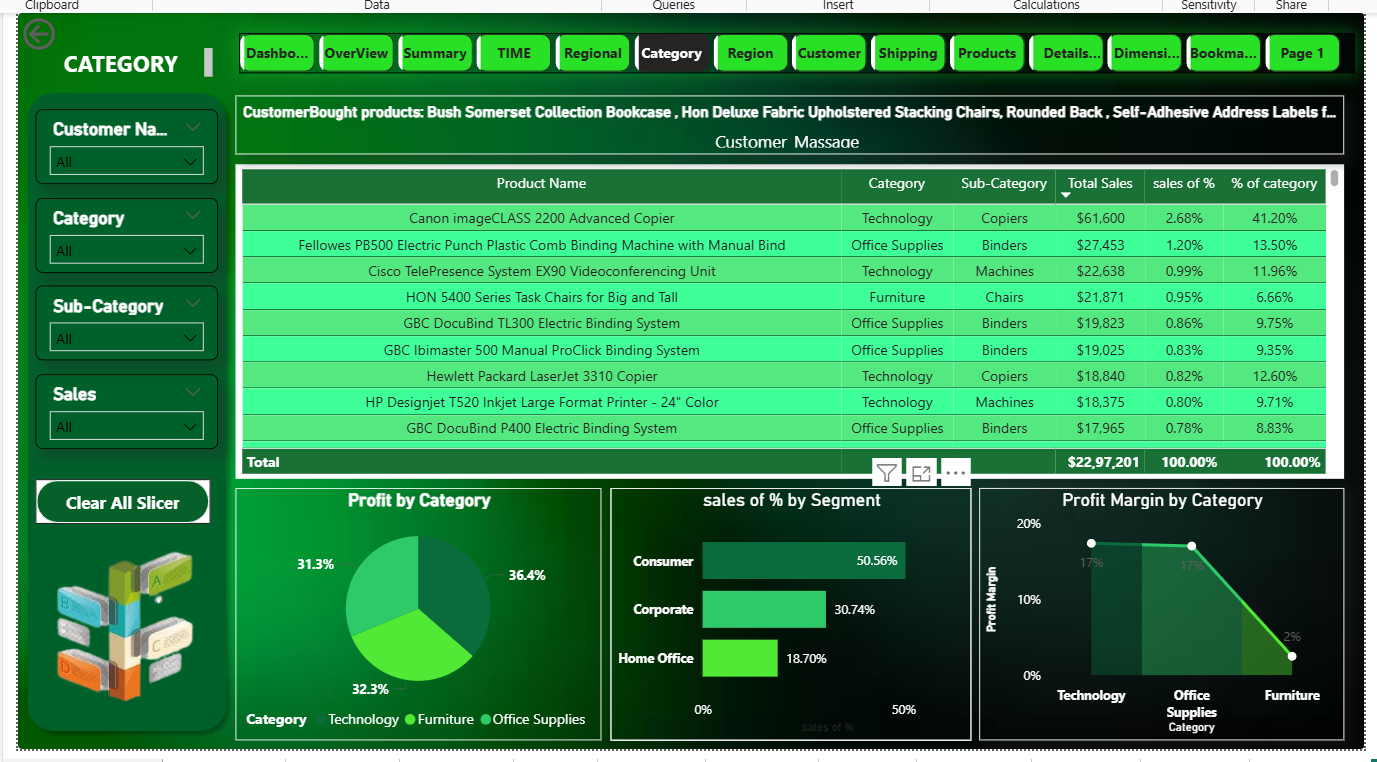

The page's visual inventory and layout, read from the dashboard file:
{"tool":"powerbi","page":{"name":"Category","canvas":[1280,700],"ordinal":5},"visuals":[{"type":"image","box":[0,0,1280.4,700.2],"z":0},{"type":"shape","box":[0,66.6,206.9,625.3],"z":1000},{"type":"textbox","box":[26.2,83.2,108.2,44],"z":2000},{"type":"textbox","box":[13.1,28.5,177.1,38],"z":3000},{"type":"slicer","fields":{"Values":["Superstore.Customer Name"]},"box":[16.6,91.5,173.6,71.3],"z":4000},{"type":"slicer","fields":{"Values":["Superstore.Sub-Category"]},"box":[16.6,259.6,173.6,71.3],"z":5000},{"type":"slicer","fields":{"Values":["Superstore.Category"]},"box":[16.6,175.6,173.6,71.3],"z":6000},{"type":"slicer","fields":{"Values":["Superstore.Sales"]},"box":[16.6,343.6,173.6,71.3],"z":7000},{"type":"shape","box":[16.6,443.4,166.4,42.8],"z":8000},{"type":"tableEx","fields":{"Values":["Superstore.Product Name","Superstore.Category","Superstore.Sub-Category","All measures.Total Sales","All measures.sales of %","All measures.% of category"]},"box":[206.9,143.9,1054.5,299.6],"z":9000},{"type":"actionButton","box":[0,0,100,40],"z":10000},{"type":"card","fields":{"Values":["All measures.Customer_Massage"]},"box":[206.9,78.5,1054.5,55.9],"z":11000},{"type":"lineChart","fields":{"Category":["Superstore.Category"],"Y":["All measures.Profit Margin"]},"box":[914.2,451.8,347.1,240.2],"z":12000},{"type":"pieChart","title":"Profit by Category","fields":{"Category":["Superstore.Category"],"Y":["All measures.% of total sales"]},"box":[206.9,451.8,348.3,240.2],"z":13000},{"type":"clusteredBarChart","fields":{"Category":["Superstore.Segment"],"Y":["All measures.sales of %"]},"box":[563.5,451.8,343.6,240.2],"z":14000},{"type":"image","box":[13.1,510,177.1,159.3],"z":15000},{"type":"pageNavigator","box":[210.4,19,1060.5,38],"z":16000}]}

Visuals, with their boxes on the page's 1280x700 design canvas (x1, y1, x2, y2). These are canvas units, not pixel positions in the 1377x762 screenshot, which may show the page scaled, cropped or inside an application window:
image: pyautogui.locateOnScreen(0, 0, 1280, 700)
shape: pyautogui.locateOnScreen(0, 67, 207, 692)
textbox: pyautogui.locateOnScreen(26, 83, 134, 127)
textbox: pyautogui.locateOnScreen(13, 28, 190, 66)
slicer - Superstore.Customer Name: pyautogui.locateOnScreen(17, 92, 190, 163)
slicer - Superstore.Sub-Category: pyautogui.locateOnScreen(17, 260, 190, 331)
slicer - Superstore.Category: pyautogui.locateOnScreen(17, 176, 190, 247)
slicer - Superstore.Sales: pyautogui.locateOnScreen(17, 344, 190, 415)
shape: pyautogui.locateOnScreen(17, 443, 183, 486)
tableEx - Superstore.Product Name x Superstore.Category: pyautogui.locateOnScreen(207, 144, 1261, 444)
actionButton: pyautogui.locateOnScreen(0, 0, 100, 40)
card - All measures.Customer_Massage: pyautogui.locateOnScreen(207, 78, 1261, 134)
lineChart - Superstore.Category x All measures.Profit Margin: pyautogui.locateOnScreen(914, 452, 1261, 692)
"Profit by Category" pieChart: pyautogui.locateOnScreen(207, 452, 555, 692)
clusteredBarChart - Superstore.Segment x All measures.sales of %: pyautogui.locateOnScreen(564, 452, 907, 692)
image: pyautogui.locateOnScreen(13, 510, 190, 669)
pageNavigator: pyautogui.locateOnScreen(210, 19, 1271, 57)
